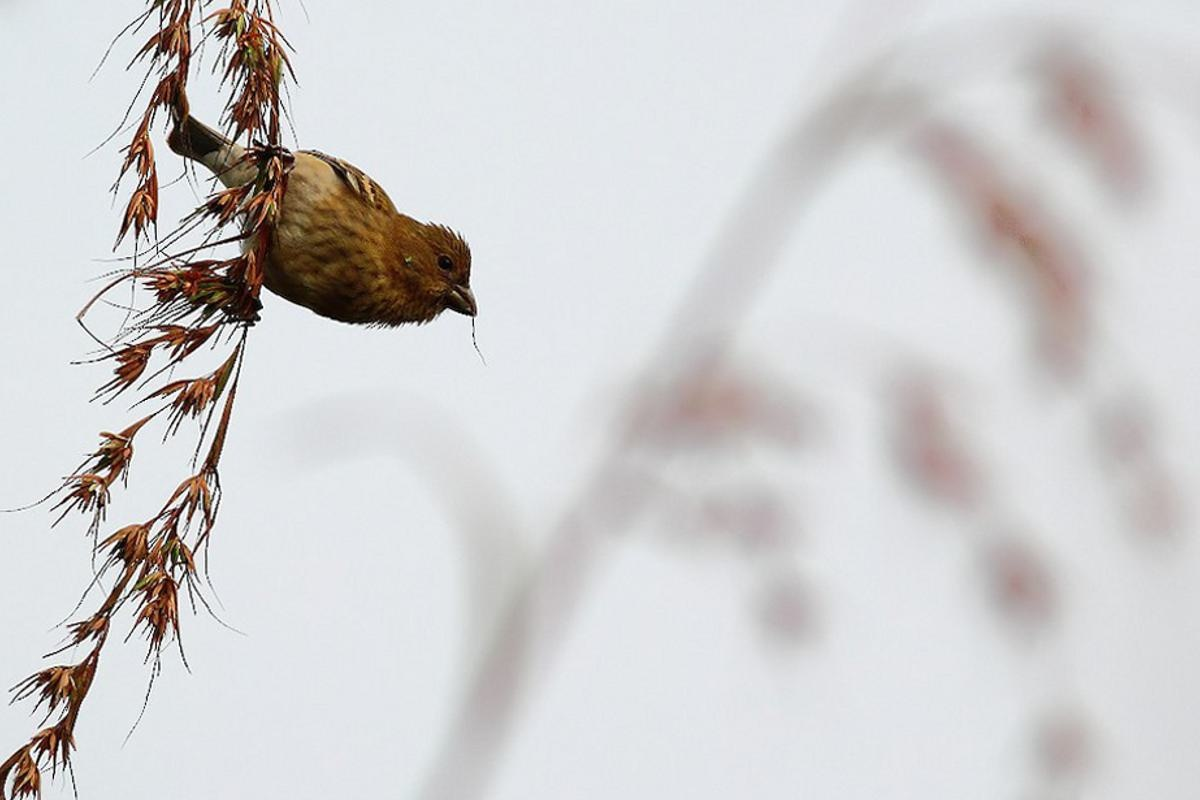rosefinch: (99, 123, 526, 355)
